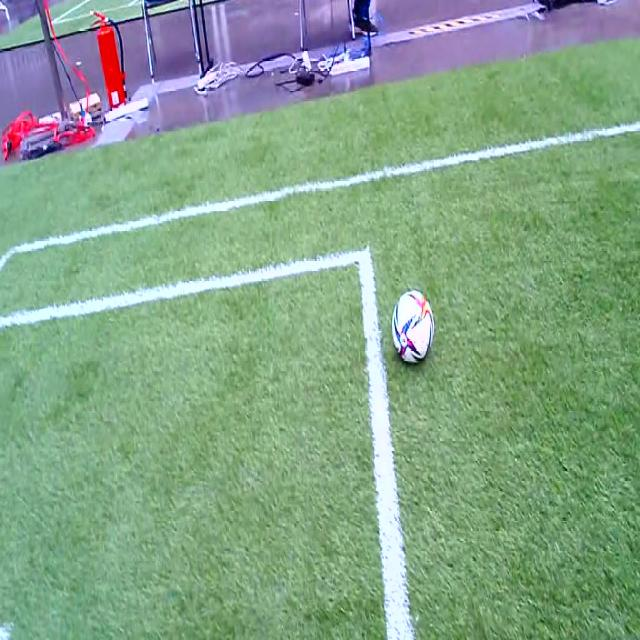ball: (392, 291, 433, 362)
